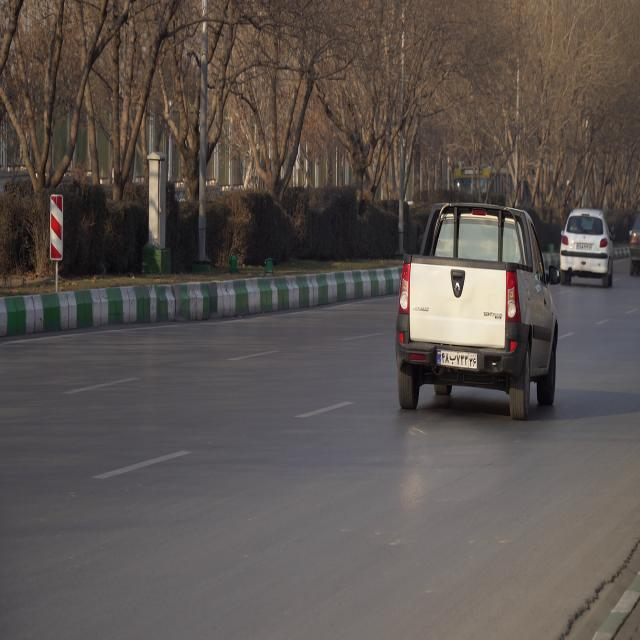car: (394, 206, 562, 417), (560, 211, 614, 294)
